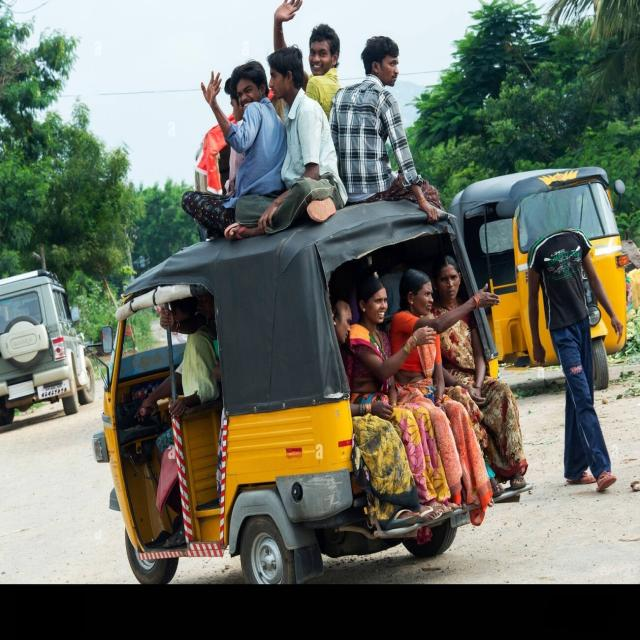autorickshaw: (92, 202, 478, 583), (450, 167, 629, 365), (586, 299, 626, 389)
car: (0, 269, 95, 424)
